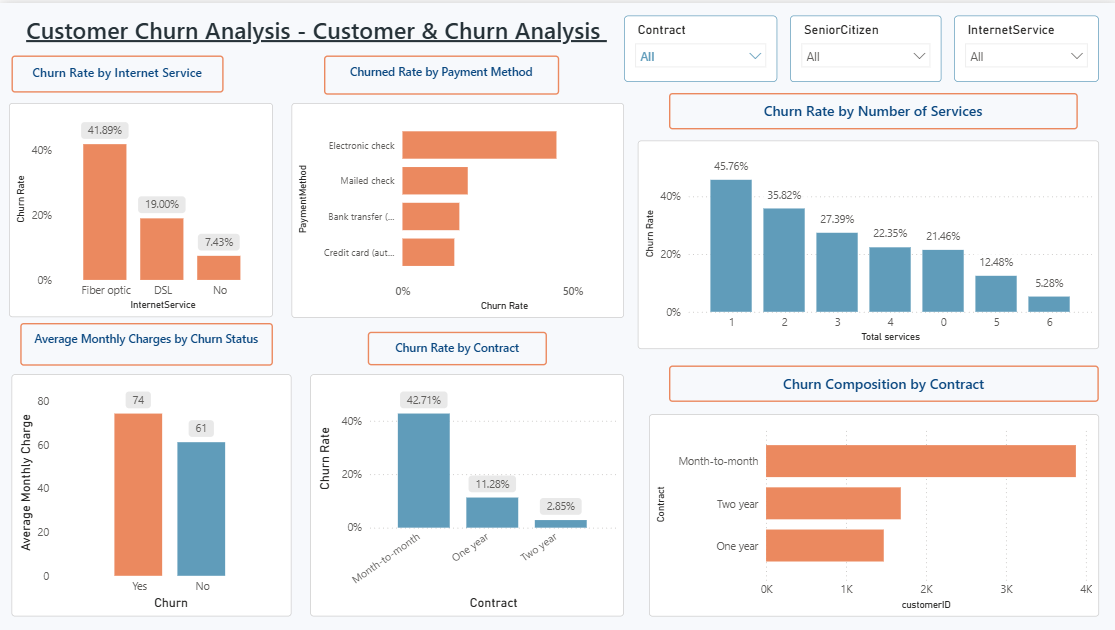

This screenshot's page, from the dashboard's own definition file:
{"tool":"powerbi","page":{"name":"Customer & Churn Analysis","canvas":[1280,720],"ordinal":1},"visuals":[{"type":"textbox","box":[11.4,7.1,702.9,52.9],"z":0},{"type":"textbox","box":[421.4,375.7,205,38.8],"z":1000},{"type":"textbox","box":[13.8,60,242.5,42.5],"z":2000},{"type":"textbox","box":[371.4,60,268.8,45],"z":3000},{"type":"textbox","box":[765.7,102.9,467.1,41.4],"z":4000},{"type":"slicer","fields":{"Values":["customer_churn_predictions.Contract"]},"box":[714.3,14.3,175,76.2],"z":5000},{"type":"slicer","fields":{"Values":["customer_churn_predictions.InternetService"]},"box":[1091.4,14.3,165.7,75.7],"z":6000},{"type":"slicer","fields":{"Values":["customer_churn_predictions.SeniorCitizen"]},"box":[904.3,14.3,172.9,75.7],"z":7000},{"type":"clusteredColumnChart","fields":{"Category":["customer_churn_predictions.InternetService"],"Y":["customer_churn_predictions.Churn Rate"]},"box":[11.2,113.8,301.2,245],"z":8000},{"type":"columnChart","fields":{"Category":["customer_churn_predictions.Contract"],"Y":["customer_churn_predictions.Churn Rate"]},"box":[355.7,424.3,358.6,277.1],"z":9000},{"type":"clusteredBarChart","fields":{"Category":["customer_churn_predictions.PaymentMethod"],"Y":["customer_churn_predictions.Churn Rate"]},"box":[334.3,114.3,380,245.7],"z":10000},{"type":"lineClusteredColumnComboChart","fields":{"Category":["customer_churn_predictions.Total_services"],"Y":["customer_churn_predictions.Churn Rate"]},"box":[730,157.1,527.1,238.6],"z":11000},{"type":"clusteredColumnChart","fields":{"Y":["customer_churn_predictions.Average Monthly Charge"],"Category":["customer_churn_predictions.Churn"]},"box":[14.3,424.3,320,277.1],"z":12000},{"type":"textbox","box":[24.3,365.7,288.6,48.6],"z":13000},{"type":"textbox","box":[765.7,414.3,491.4,41.4],"z":14000},{"type":"barChart","fields":{"Category":["customer_churn_predictions.Contract"],"Y":["Count(customer_churn_predictions.customerID)"]},"box":[742.9,470,514.3,231.4],"z":15000}]}

Visuals, with their boxes in screenshot pixels (x1, y1, x2, y2), scaled from the page's 1280x720 canvas onto the 1115x630 screenshot:
textbox: box=[10, 6, 622, 52]
textbox: box=[367, 329, 546, 363]
textbox: box=[12, 52, 223, 90]
textbox: box=[324, 52, 558, 92]
textbox: box=[667, 90, 1074, 126]
slicer - customer_churn_predictions.Contract: box=[622, 13, 775, 79]
slicer - customer_churn_predictions.InternetService: box=[951, 13, 1095, 79]
slicer - customer_churn_predictions.SeniorCitizen: box=[788, 13, 938, 79]
clusteredColumnChart - customer_churn_predictions.InternetService x customer_churn_predictions.Churn Rate: box=[10, 100, 272, 314]
columnChart - customer_churn_predictions.Contract x customer_churn_predictions.Churn Rate: box=[310, 371, 622, 614]
clusteredBarChart - customer_churn_predictions.PaymentMethod x customer_churn_predictions.Churn Rate: box=[291, 100, 622, 315]
lineClusteredColumnComboChart - customer_churn_predictions.Total_services x customer_churn_predictions.Churn Rate: box=[636, 137, 1095, 346]
clusteredColumnChart - customer_churn_predictions.Average Monthly Charge x customer_churn_predictions.Churn: box=[12, 371, 291, 614]
textbox: box=[21, 320, 273, 363]
textbox: box=[667, 363, 1095, 399]
barChart - customer_churn_predictions.Contract x Count(customer_churn_predictions.customerID): box=[647, 411, 1095, 614]
